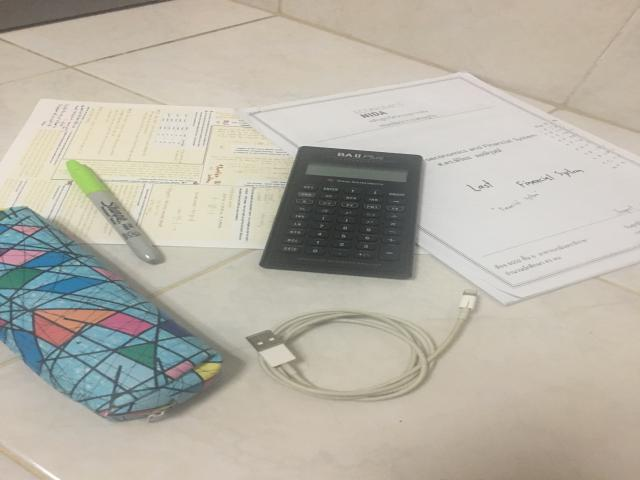Pen: (67, 160, 163, 263)
paper: (237, 72, 638, 304), (0, 99, 293, 248)
wire: (247, 290, 477, 401)
